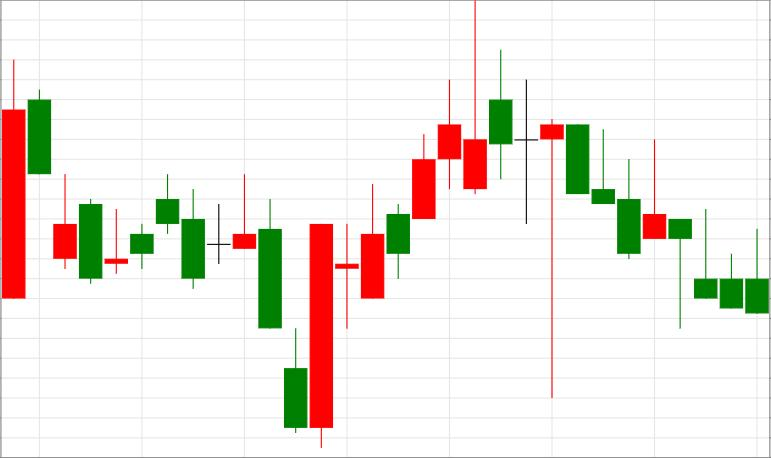bullish_engulfing_rise: (156, 174, 333, 448)
inverse_hammer_rise: (566, 125, 769, 328)
shooting_star_fall: (310, 0, 486, 450)
